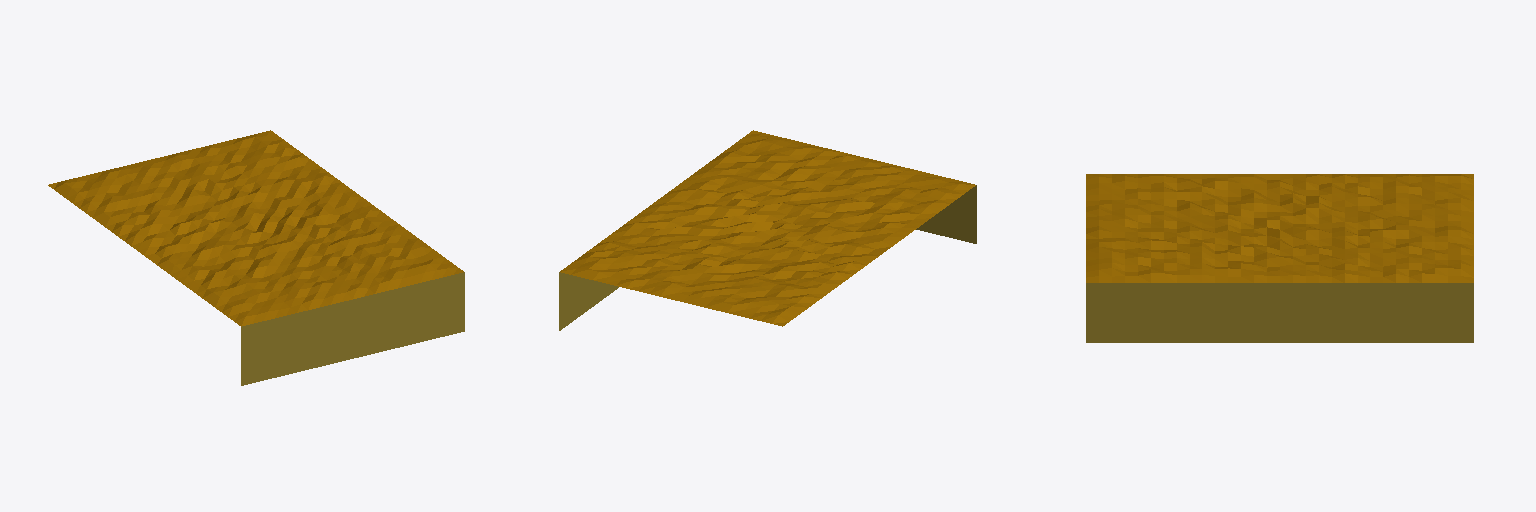
The model's file is vegetaux_plantations.obj.
3 renders of one model, left to right at view 1: azimuth 30°, elevation 25°; view 2: azimuth 150°, elevation 25°; view 3: azimuth 270°, elevation 25°, orthographic.
Parts seen in each view (by area): view 1: Cube; view 2: Cube; view 3: Cube.
Part boxes in pixels (bbox=[...]): Cube: bbox=[48, 130, 464, 385]; Cube: bbox=[559, 130, 976, 330]; Cube: bbox=[1086, 174, 1473, 342].
Bounding box in the file's own units: 4 × 1.09 × 6.